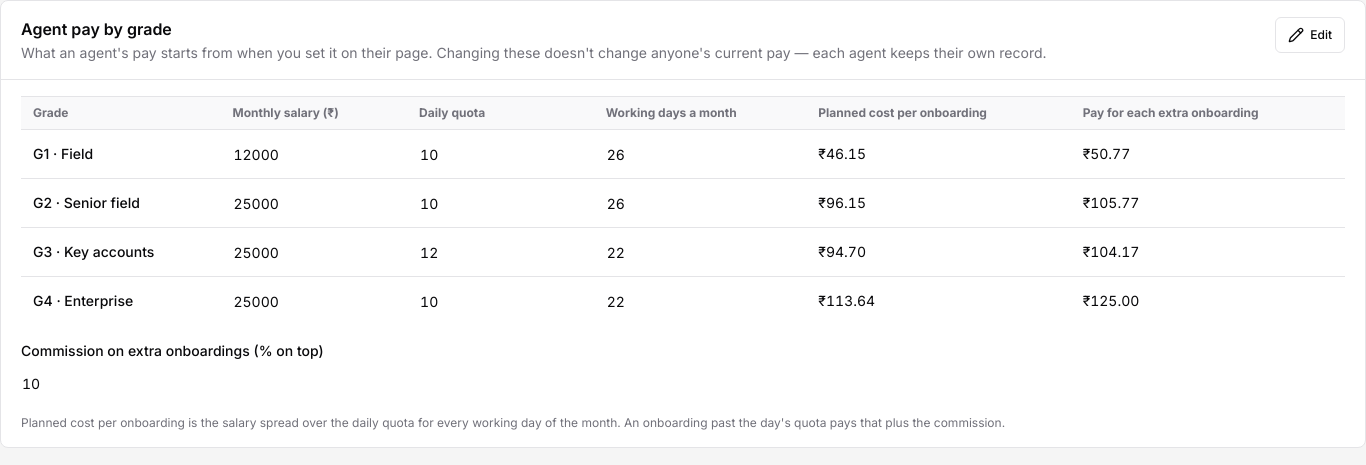
it: Agent pay by grade › refuses G4 · Enterprise working days a month = 32 on the line under the table
Click the button "Edit" at [1310, 35], box x1=1275 y1=17 x2=1345 y2=53
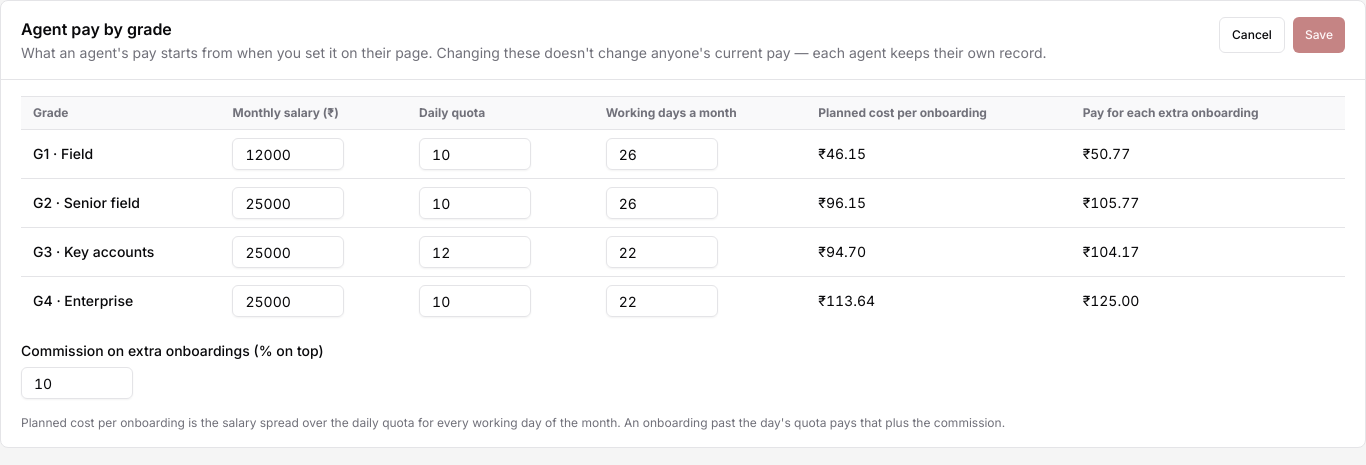
Replace the text in the field named "G4 · Enterprise working days a month" with "32" at [662, 301], box x1=606 y1=285 x2=718 y2=317
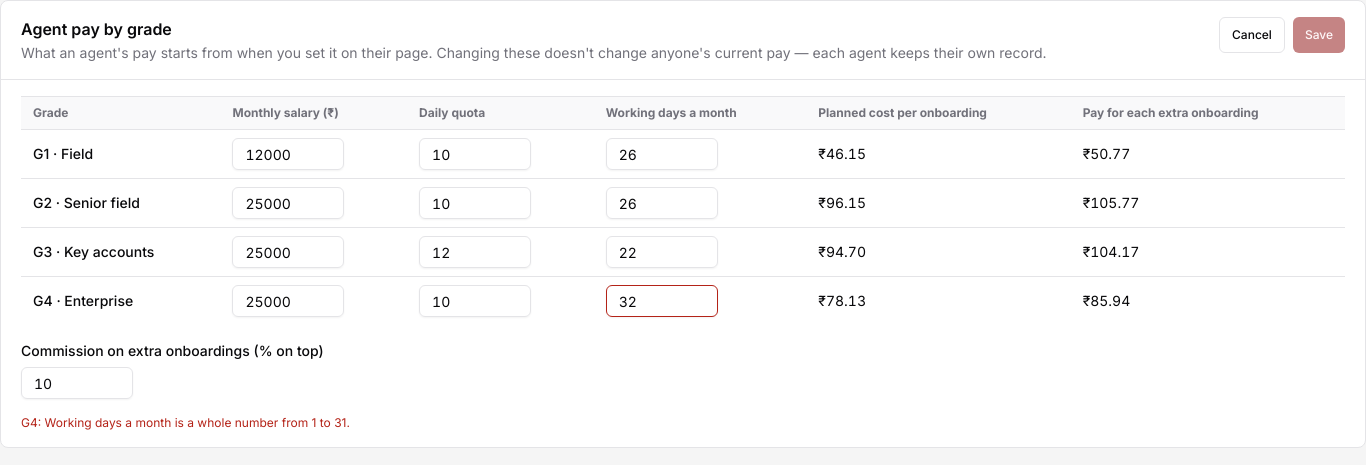
Check: the button "Save" is disabled, box x1=1293 y1=17 x2=1345 y2=53
Check: the text with test id "agent-pay-line" reads "G4: Working days a month is a whole number from 1 to 31.", box x1=21 y1=415 x2=350 y2=430
